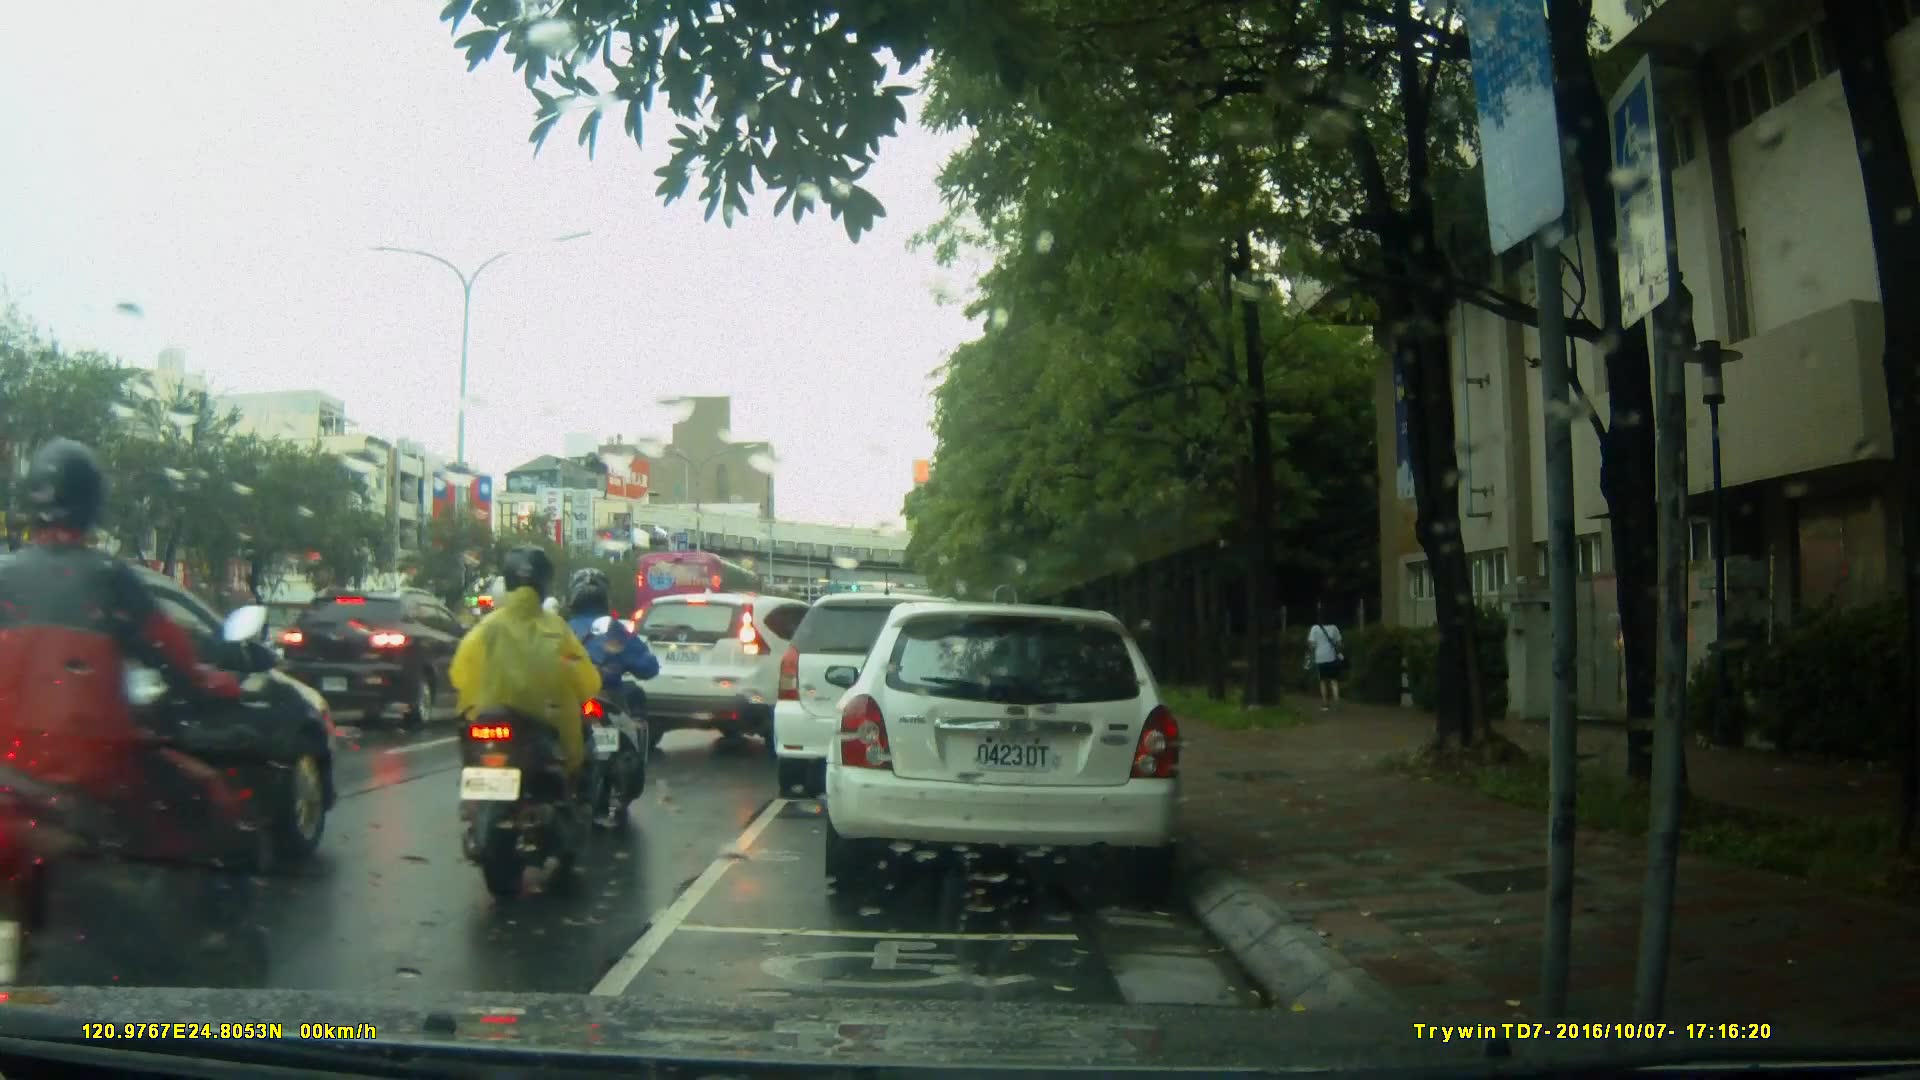pedestrian: (1297, 599, 1354, 724)
rider: (1, 444, 272, 1018), (448, 552, 604, 899), (545, 565, 664, 836), (450, 571, 542, 818)
vehicle: (1, 549, 329, 920), (835, 594, 1194, 898), (776, 590, 1026, 784), (613, 588, 873, 761), (274, 583, 488, 732), (634, 549, 765, 639)
